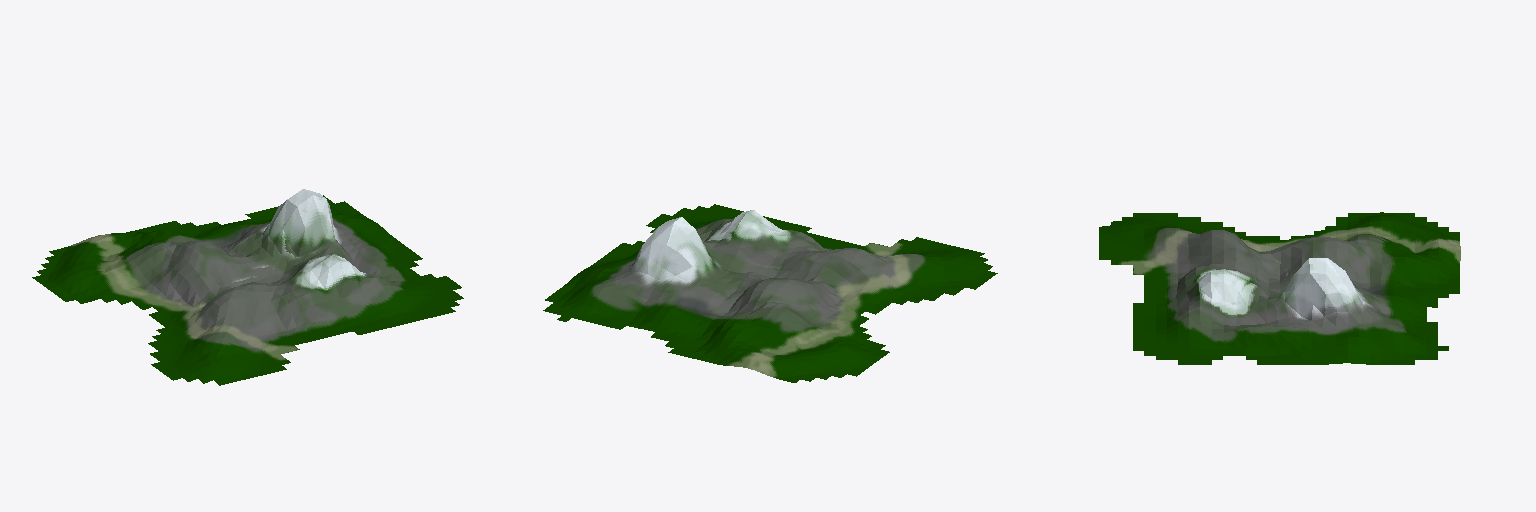
The picture shows the model from 3 angles: view 1: azimuth 30°, elevation 25°; view 2: azimuth 150°, elevation 25°; view 3: azimuth 270°, elevation 25°; orthographic projection.
Parts seen in each view (by area): view 1: Plane; view 2: Plane; view 3: Plane.
Part boxes in pixels (left/top/right/bottom): Plane: left=32, top=189, right=463, bottom=385; Plane: left=543, top=204, right=997, bottom=382; Plane: left=1099, top=212, right=1460, bottom=364.
Bounding box in the file's own units: 8 × 1.61 × 8.01.
Materials: 1 (1 with a texture image).